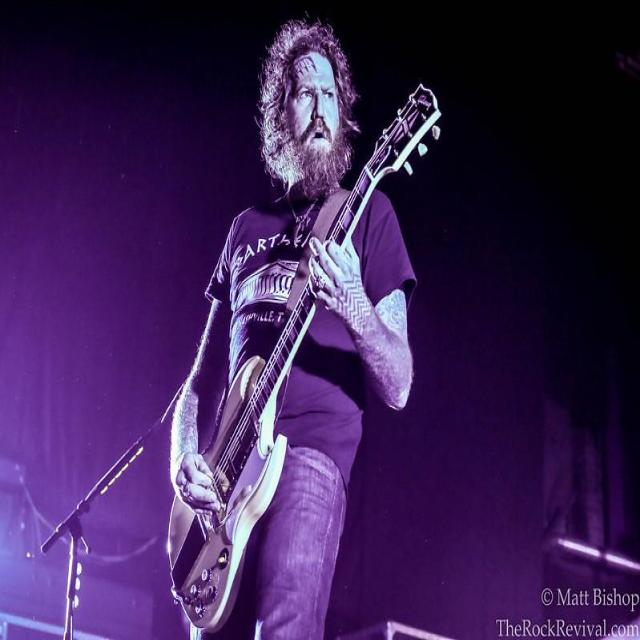guitar: (169, 283, 315, 632)
